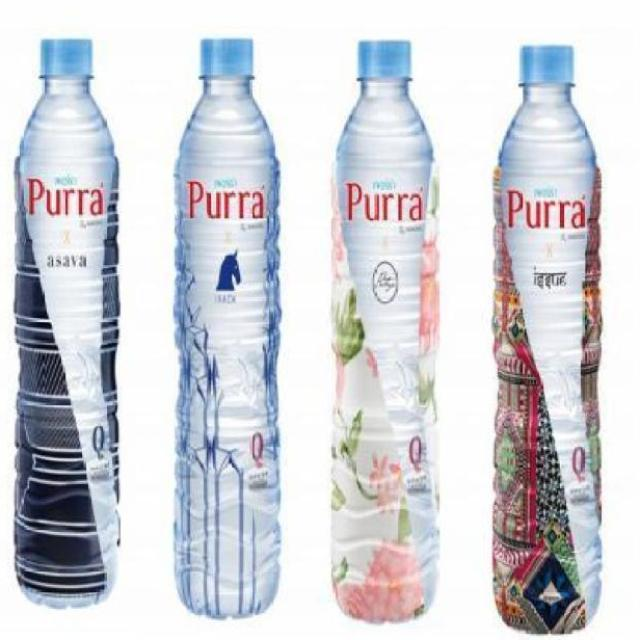plastik: (493, 44, 602, 633), (332, 41, 437, 622), (175, 38, 280, 618), (14, 39, 119, 607)
